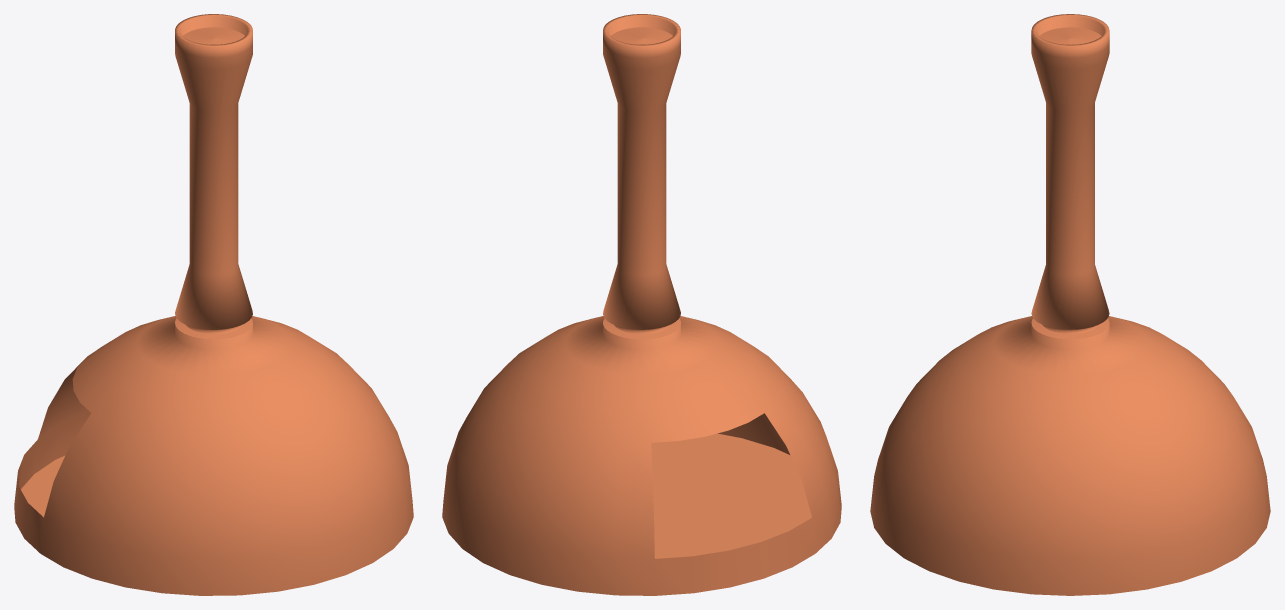
The model's file is piecyk 2.fbx.
3 renders of one model, left to right at view 1: azimuth 30°, elevation 25°; view 2: azimuth 150°, elevation 25°; view 3: azimuth 270°, elevation 25°, orthographic.
Parts seen in each view (by area): view 1: Sphere; view 2: Sphere; view 3: Sphere.
Boxes of the visible parts, left/top/right/bottom form: Sphere: left=14, top=14, right=413, bottom=595; Sphere: left=442, top=14, right=841, bottom=595; Sphere: left=870, top=14, right=1270, bottom=595.
Size of the model in its own units: 815 by 1080 by 815.
